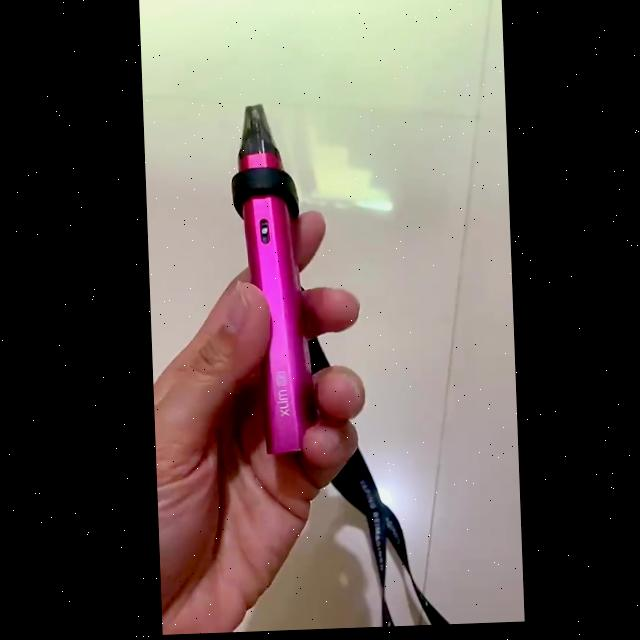vape: (234, 103, 313, 458)
